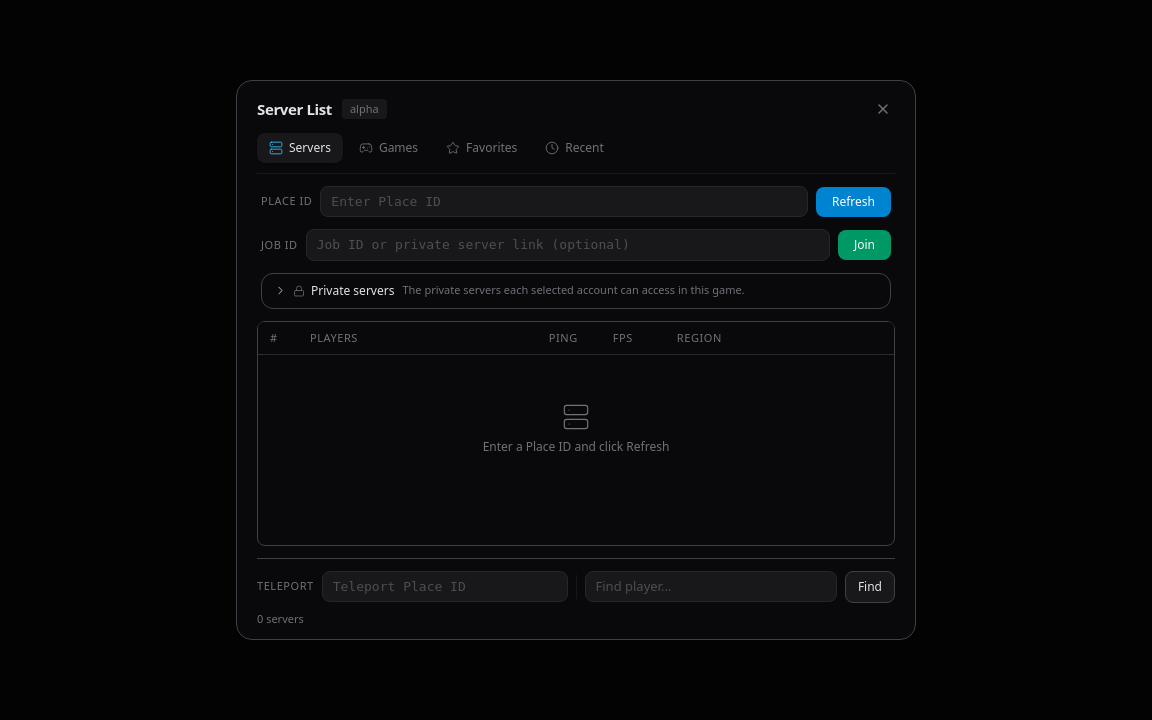
Test: ServerListDialog — menu do jogo completo, como na Choose Game › Browse servers leva à aba Servers com o place do jogo
Click the button "Games". click: coordinates (388, 148)
box: [347,133,430,163]
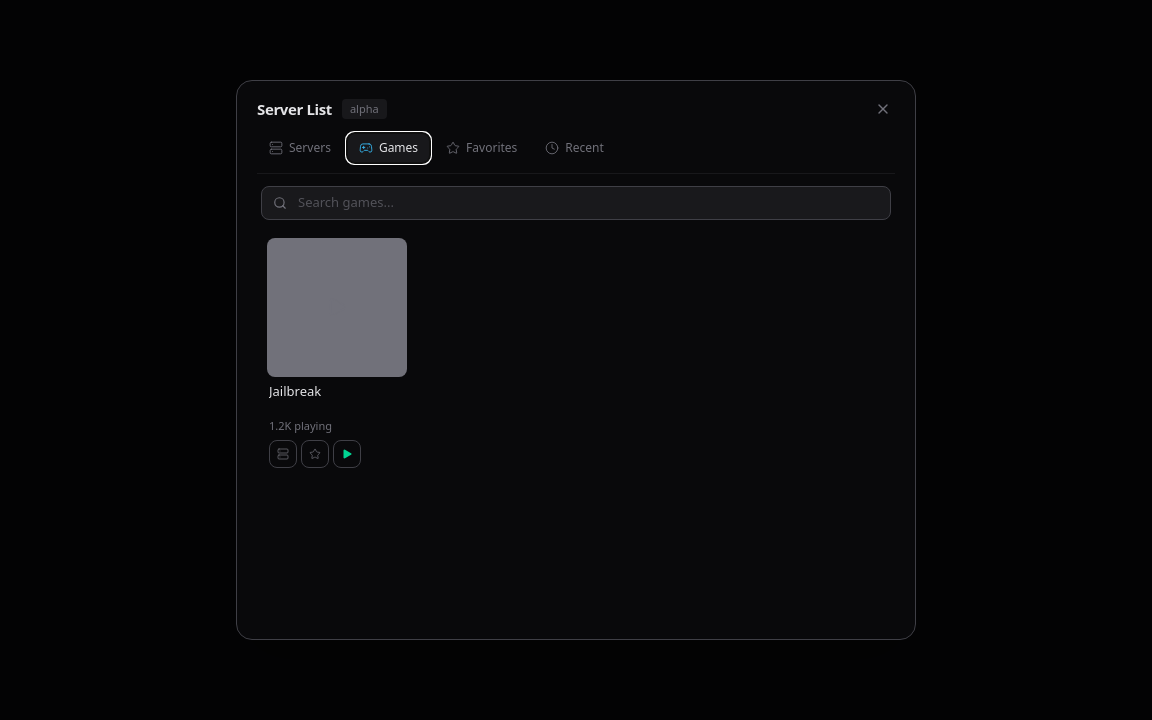
Right-click the text "Jailbreak" at coordinates (295, 391), box [269,382,321,400]
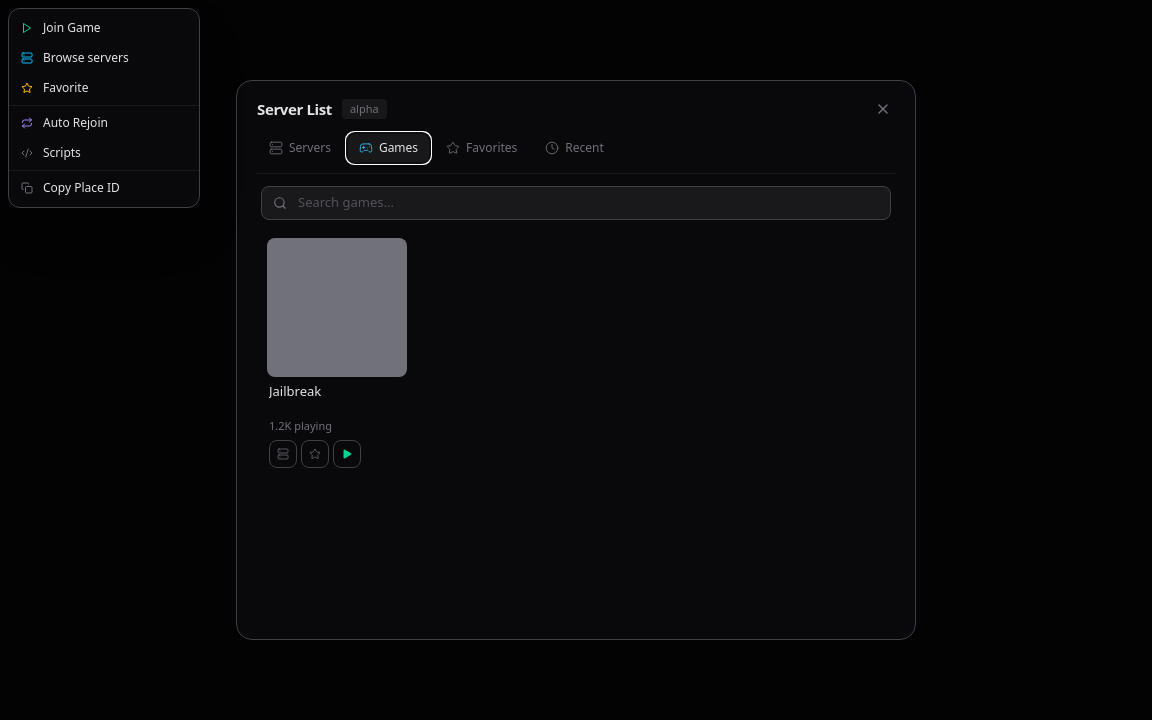
Click the button "Browse servers". click: coordinates (104, 58)
box: [9,43,199,73]
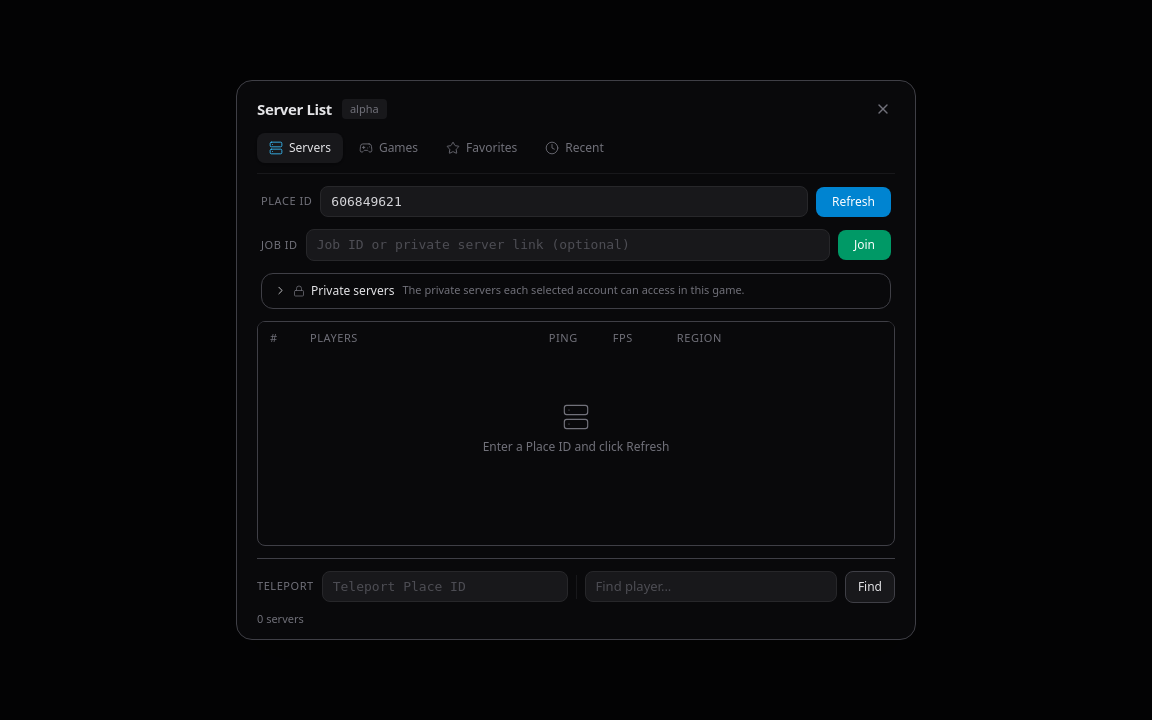
Expected: the field with placeholder "Enter Place ID" holds "606849621", [320,186,808,217]
